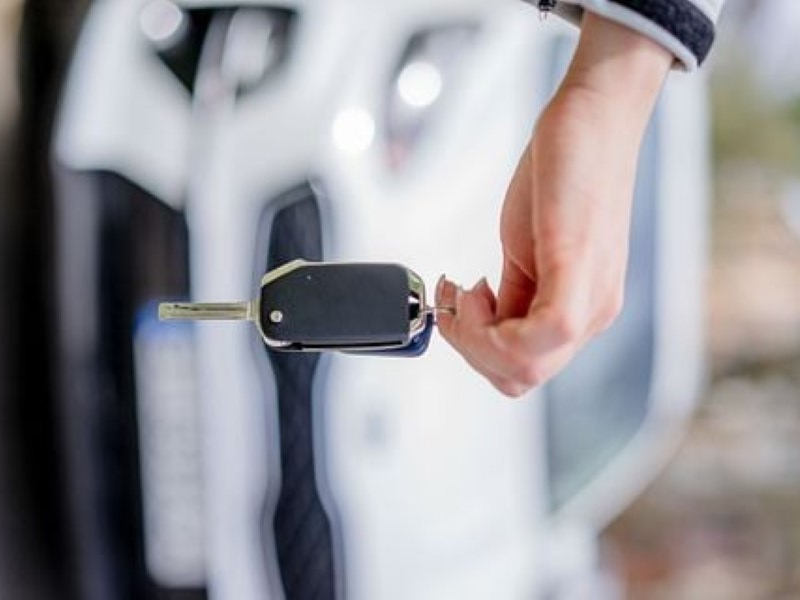carkey: (156, 257, 438, 366)
